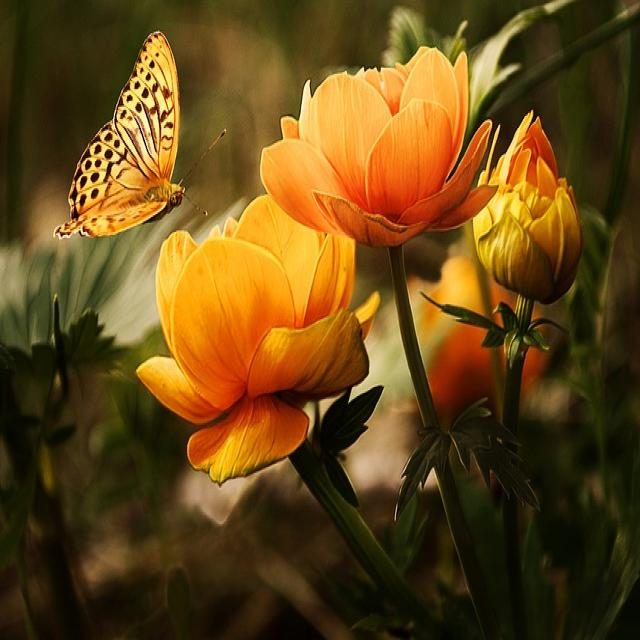butterfly: (55, 32, 185, 237)
